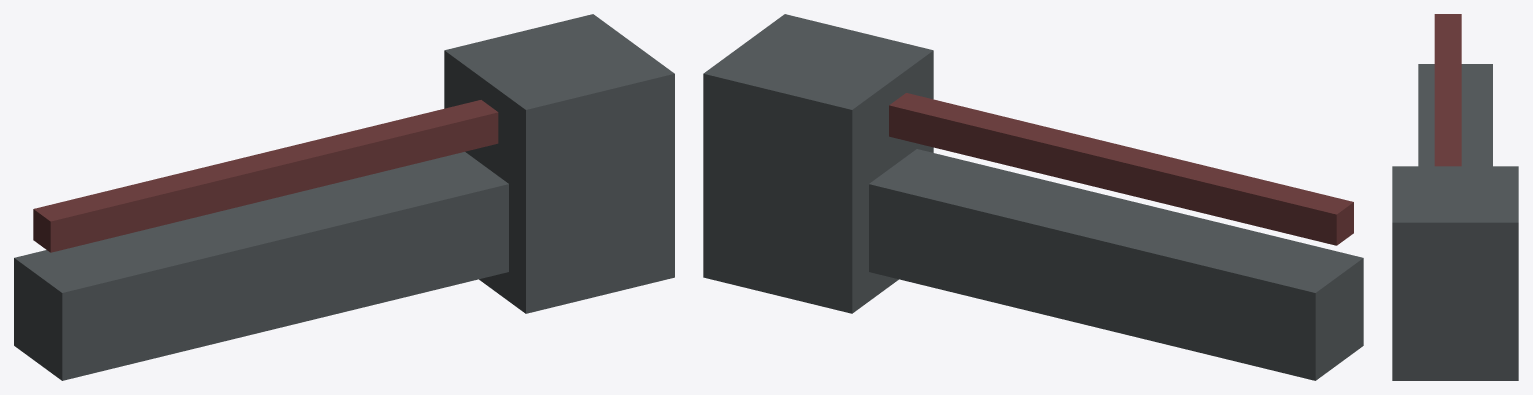
The model's file is hand2.fbx.
3 renders of one model, left to right at view 1: azimuth 30°, elevation 25°; view 2: azimuth 150°, elevation 25°; view 3: azimuth 270°, elevation 25°, orthographic. The views are drawn at different scales.
Visible parts, largest first — view 1: hand2; view 2: hand2; view 3: hand2.
Boxes of the visible parts, x1,y1,x2,y2 form: hand2: (14, 14, 674, 380); hand2: (703, 14, 1363, 380); hand2: (1392, 14, 1518, 380).
Size of the model in its own units: 1.7 by 0.5554 by 0.4027.
